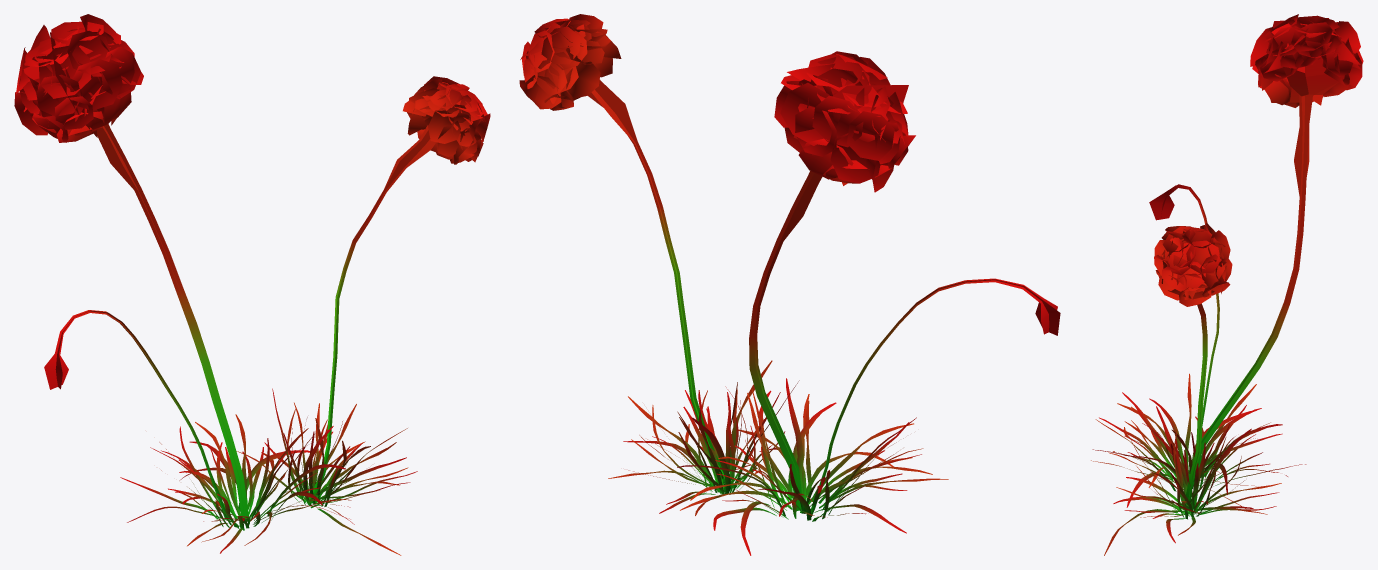
The model's file is Var8_LOD0.fbx.
The picture shows the model from 3 angles, left to right: view 1: azimuth 30°, elevation 25°; view 2: azimuth 150°, elevation 25°; view 3: azimuth 270°, elevation 25°; orthographic projection. The views are drawn at different scales.
Visible parts, largest first — view 1: _u1v0_Var8_LOD0; view 2: _u1v0_Var8_LOD0; view 3: _u1v0_Var8_LOD0.
Boxes of the visible parts, x1,y1,x2,y2 form: _u1v0_Var8_LOD0: (14, 14, 490, 555); _u1v0_Var8_LOD0: (519, 14, 1060, 555); _u1v0_Var8_LOD0: (1091, 14, 1363, 555).
Size of the model in its own units: 13.37 by 13.88 by 7.72.
